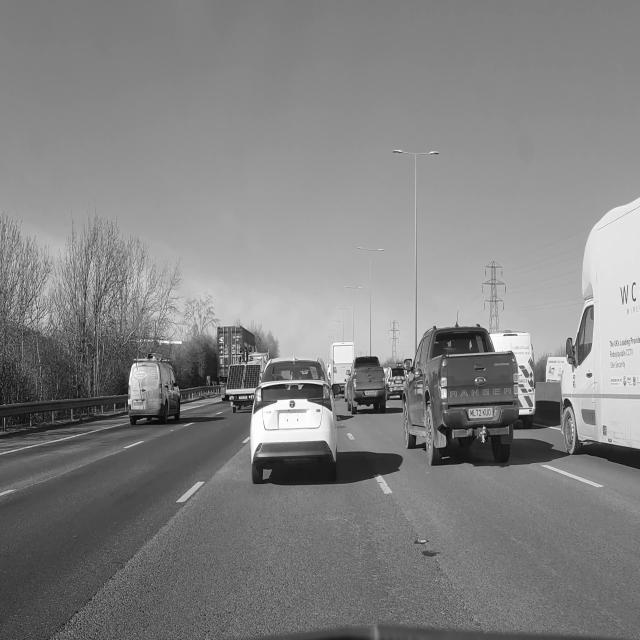car: (401, 322, 522, 469), (250, 358, 337, 483), (128, 354, 180, 424), (345, 352, 389, 416), (385, 364, 405, 399)
